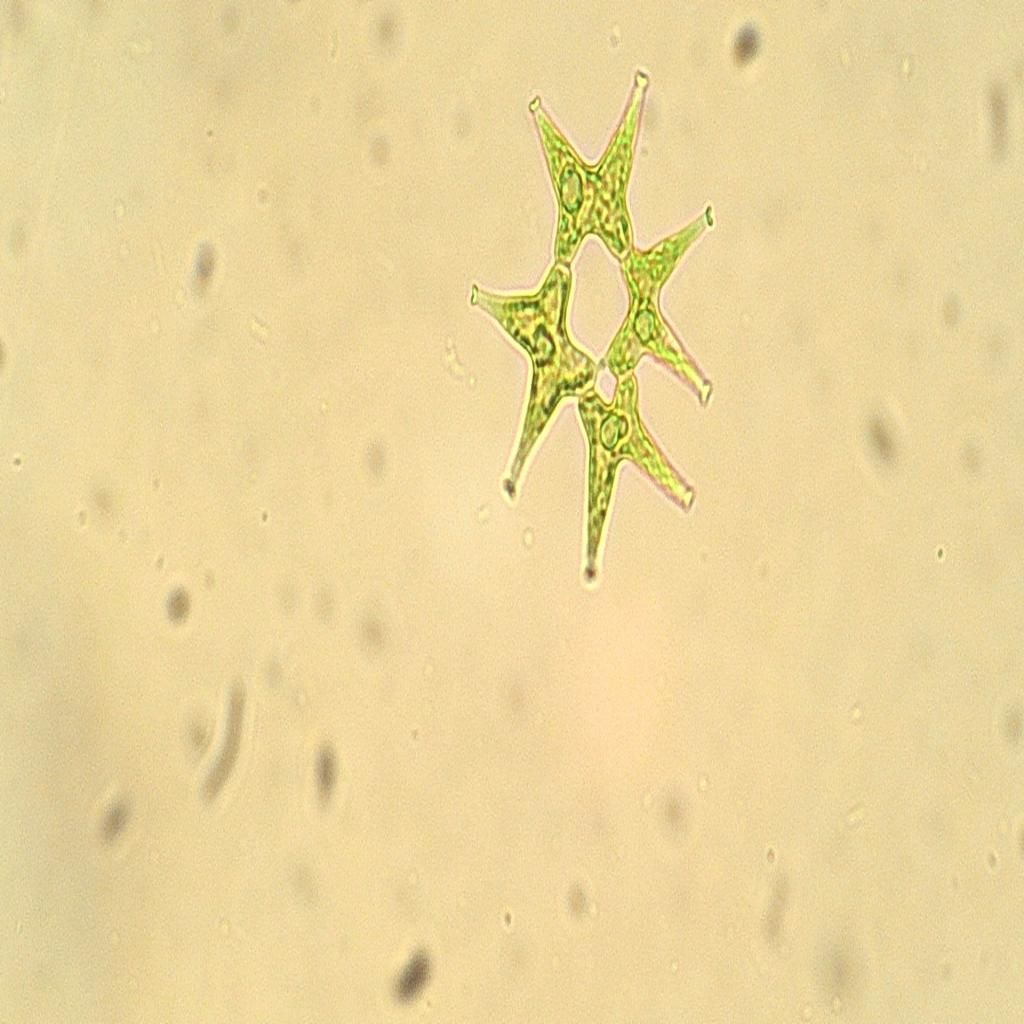Pediastrum_CF: (463, 66, 740, 594)
